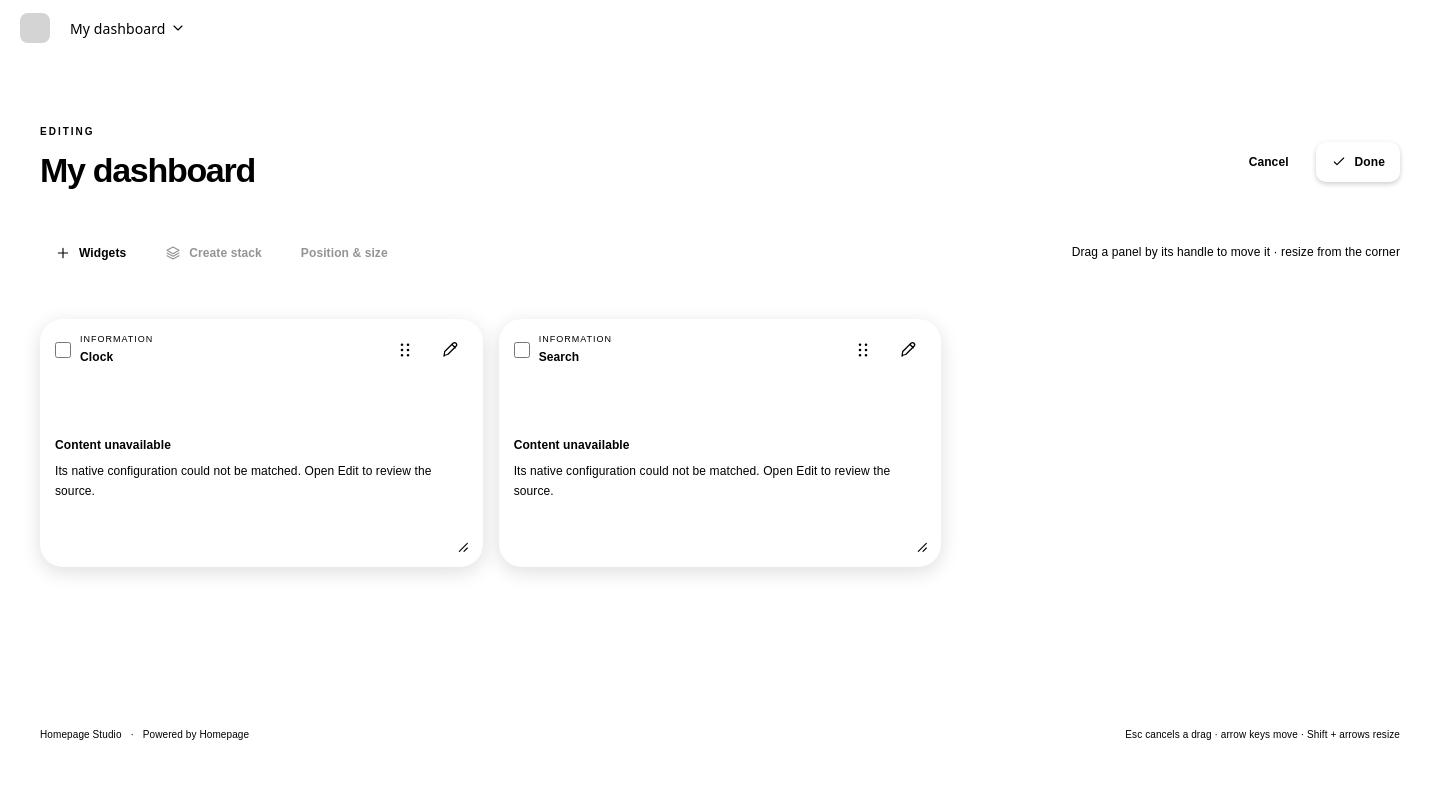
Native board save and draft safety › scrolls the delete confirmation into view, focuses its safe choice and restores focus on Keep it
Expected: the button "Done" is enabled, [1316,142,1400,182]
Click the button named "Edit Clock".
click(450, 350)  # box [432,332,468,368]
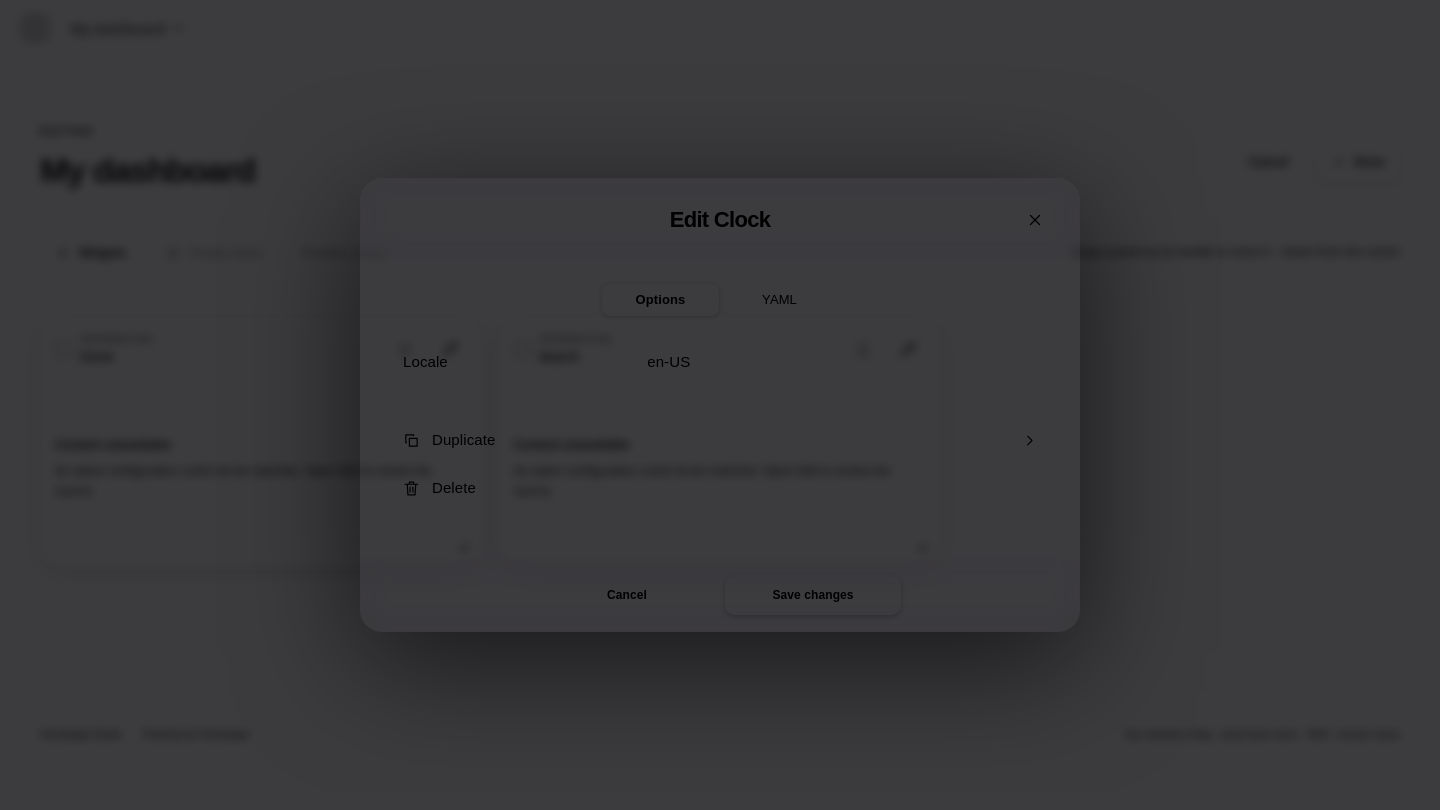
Click the button "Delete".
click(454, 487)  # box [387,464,1053,512]
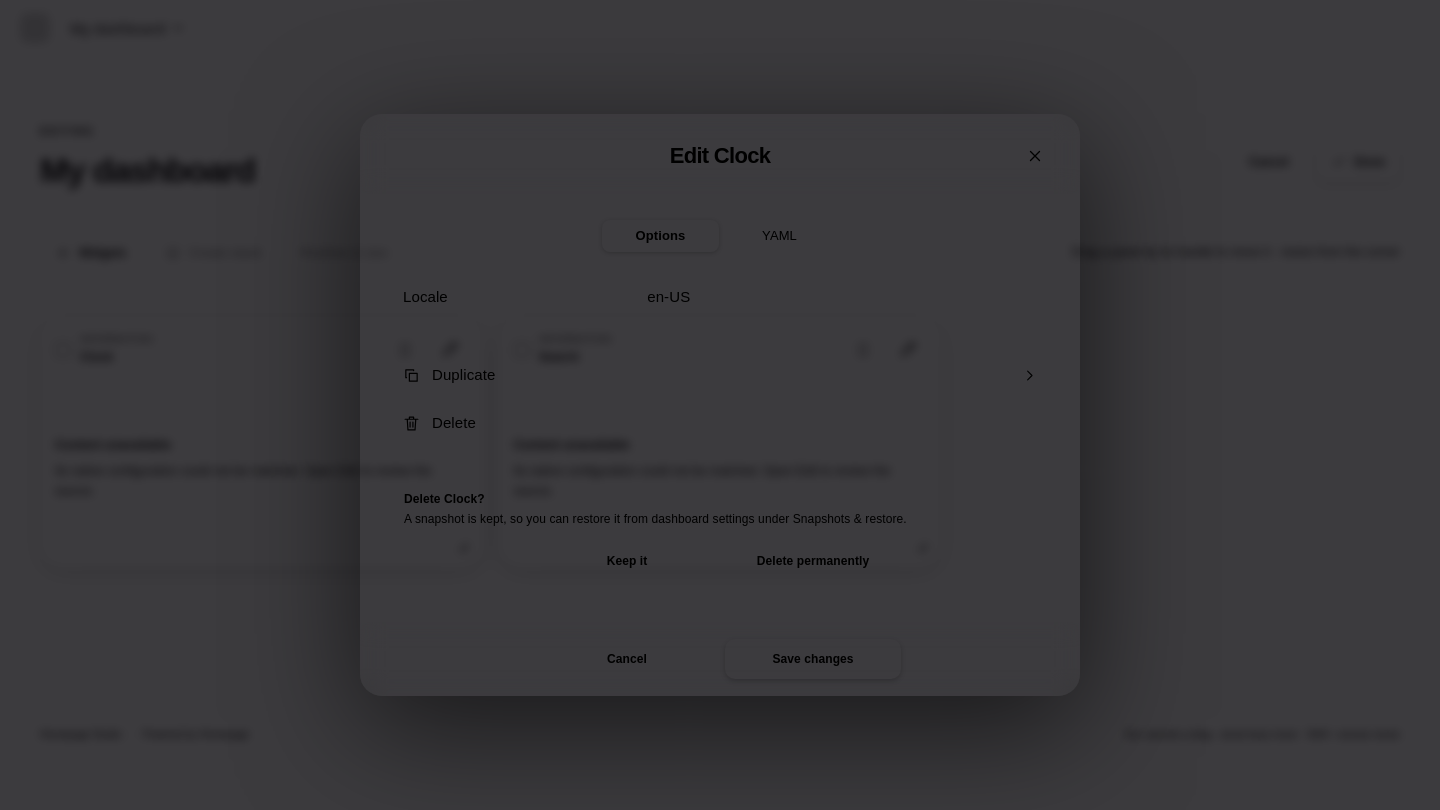
Click the button "Keep it".
click(627, 561)  # box [539,541,715,581]
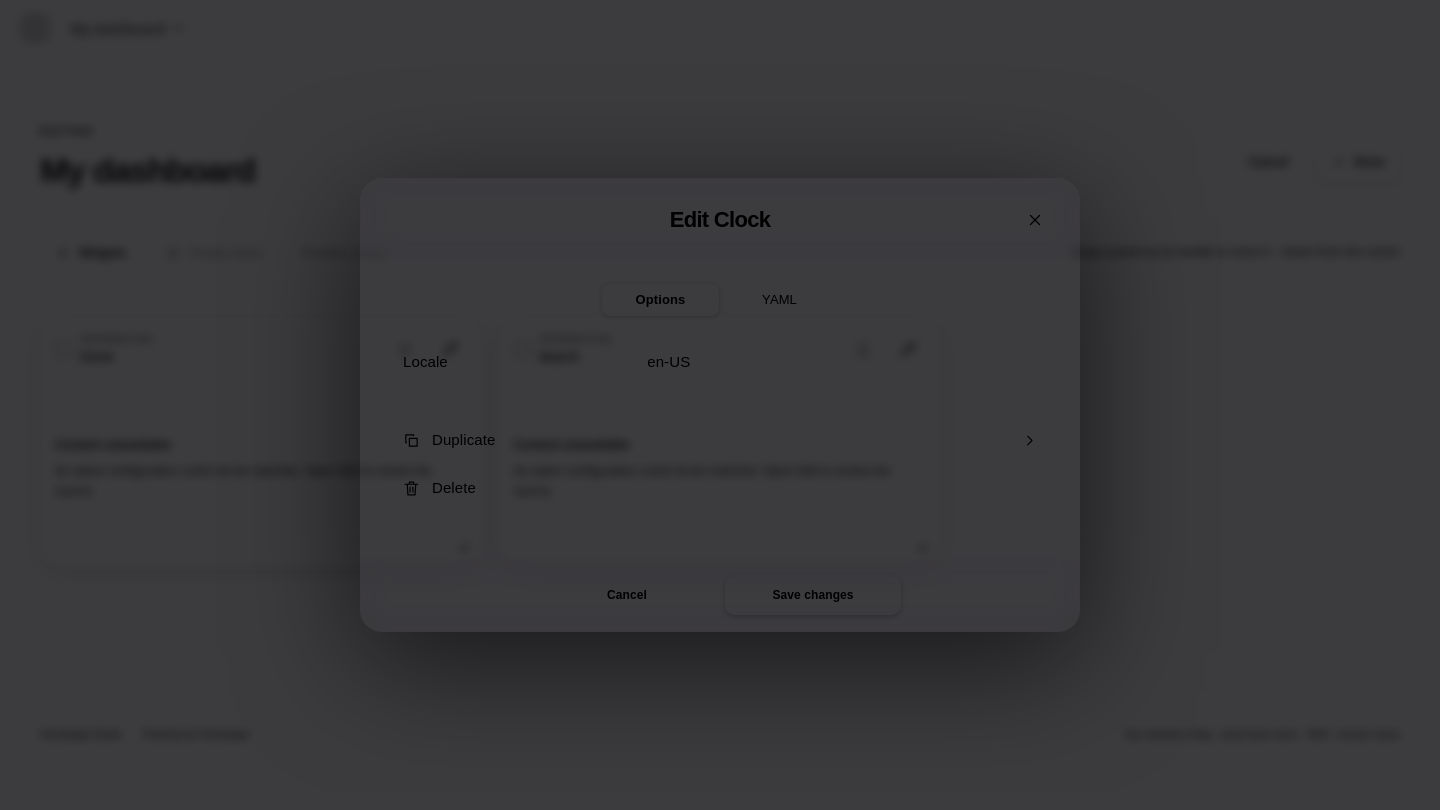
Expected: the text "Delete Clock?" is gone
